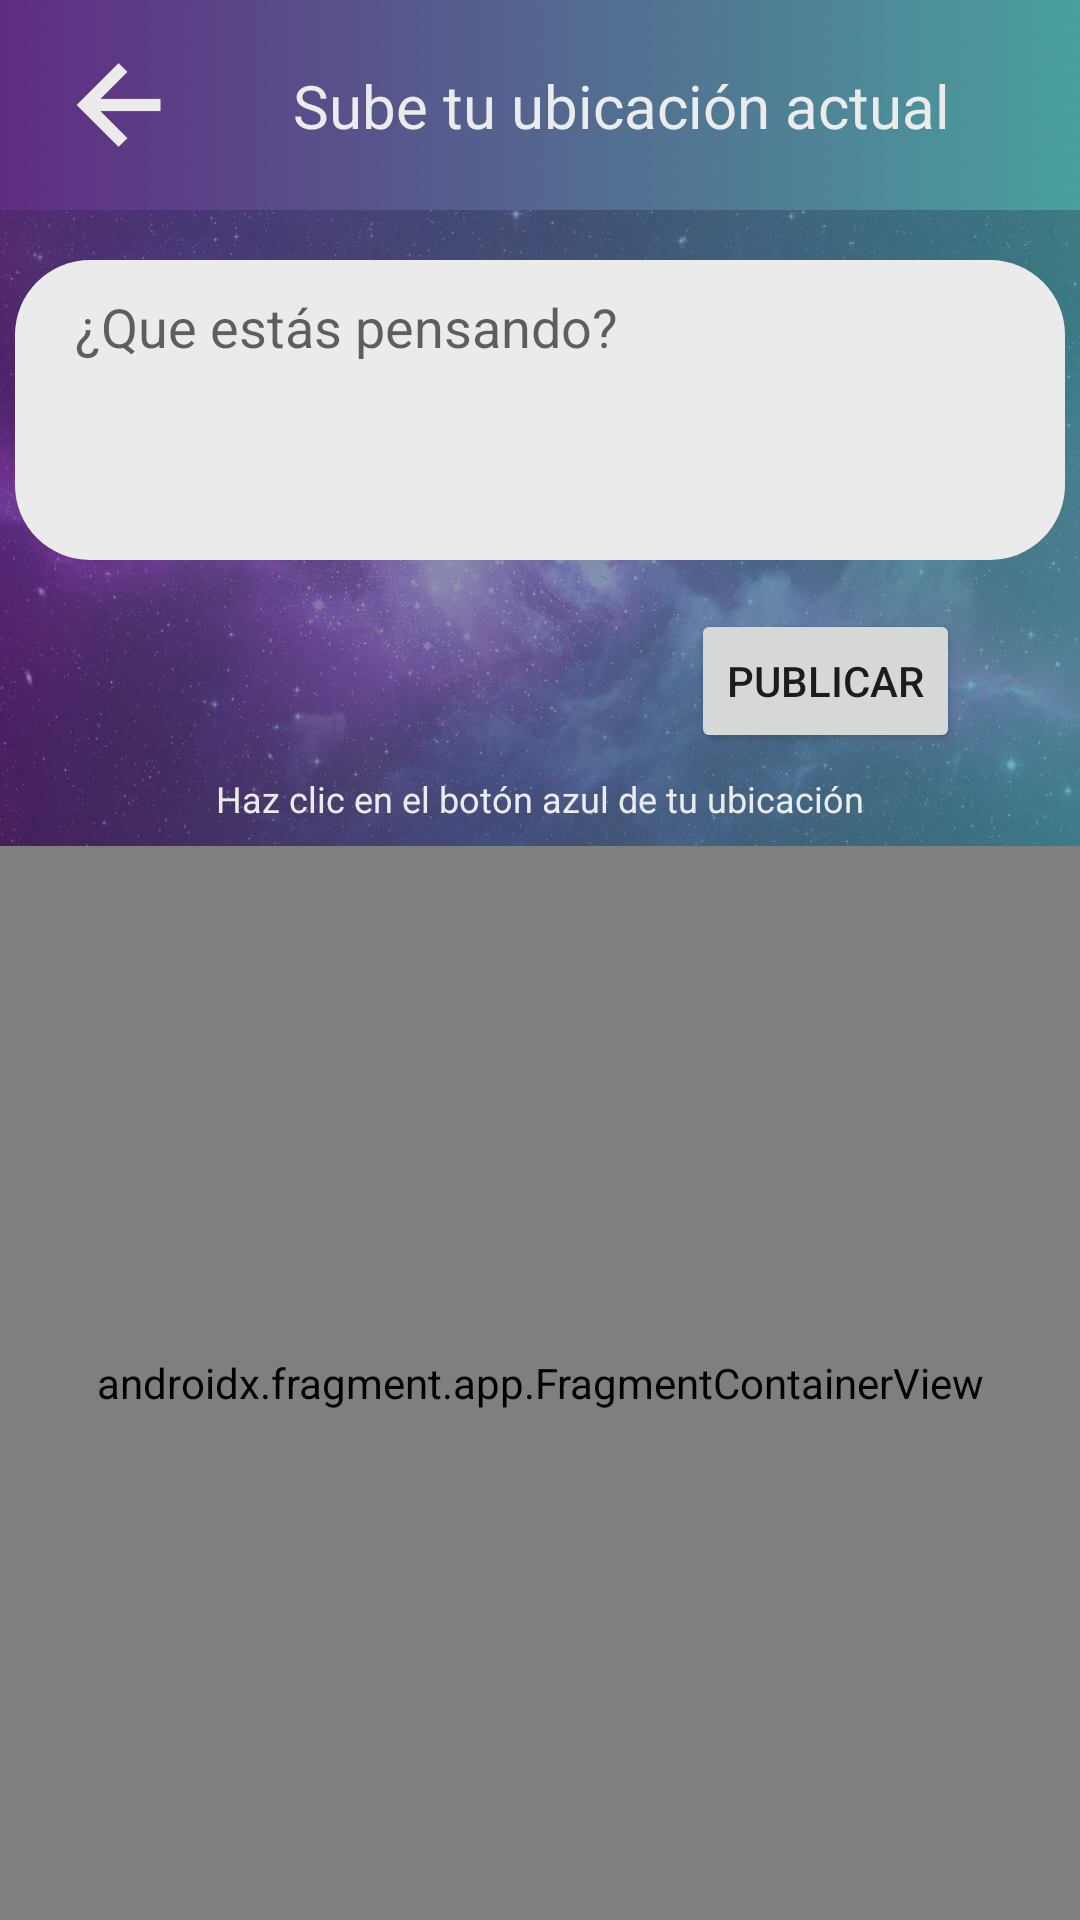

Point at icon controls on the screen. Image size 1080*1920, points as [x,y].
left arrow: [119,105]
